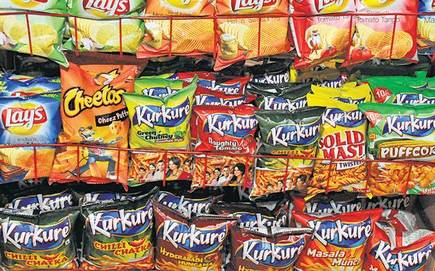kurkure: (164, 209, 221, 252), (319, 99, 361, 142), (5, 225, 80, 247), (92, 214, 149, 241), (272, 123, 310, 162), (381, 119, 435, 140), (319, 220, 371, 241), (209, 114, 259, 134), (247, 239, 287, 260), (5, 202, 75, 213), (383, 243, 423, 262)
wrapper: (131, 107, 192, 125)
